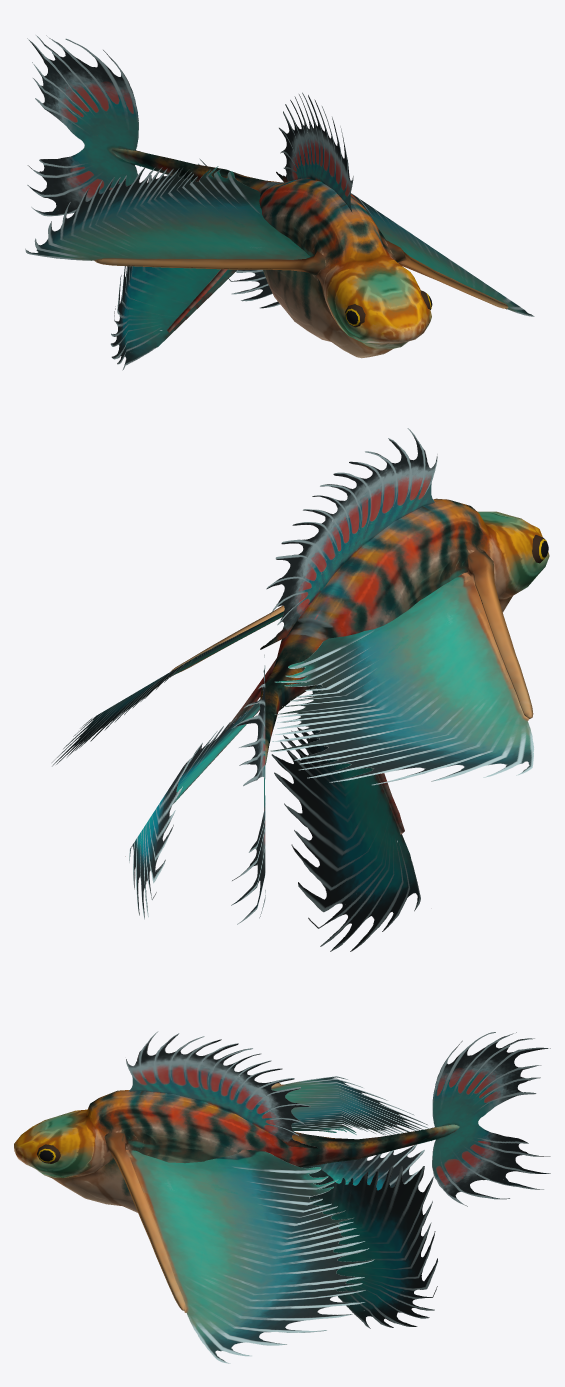
File: fish_000014.obj
3 views of the same model, one above another, from view 1: azimuth 30°, elevation 25°; view 2: azimuth 150°, elevation 25°; view 3: azimuth 270°, elevation 25° (orthographic). The views are drawn at different scales.
Visible parts, largest first — view 1: flyingFish_low_StingrayPBS1_0; view 2: flyingFish_low_StingrayPBS1_0; view 3: flyingFish_low_StingrayPBS1_0.
Boxes of the visible parts, left/top/right/bottom form: flyingFish_low_StingrayPBS1_0: left=25, top=35, right=534, bottom=370; flyingFish_low_StingrayPBS1_0: left=52, top=428, right=549, bottom=951; flyingFish_low_StingrayPBS1_0: left=14, top=1031, right=550, bottom=1363.
Bounding box in the file's own units: 16.92 × 11.87 × 19.9.
1 material, 1 textured.
